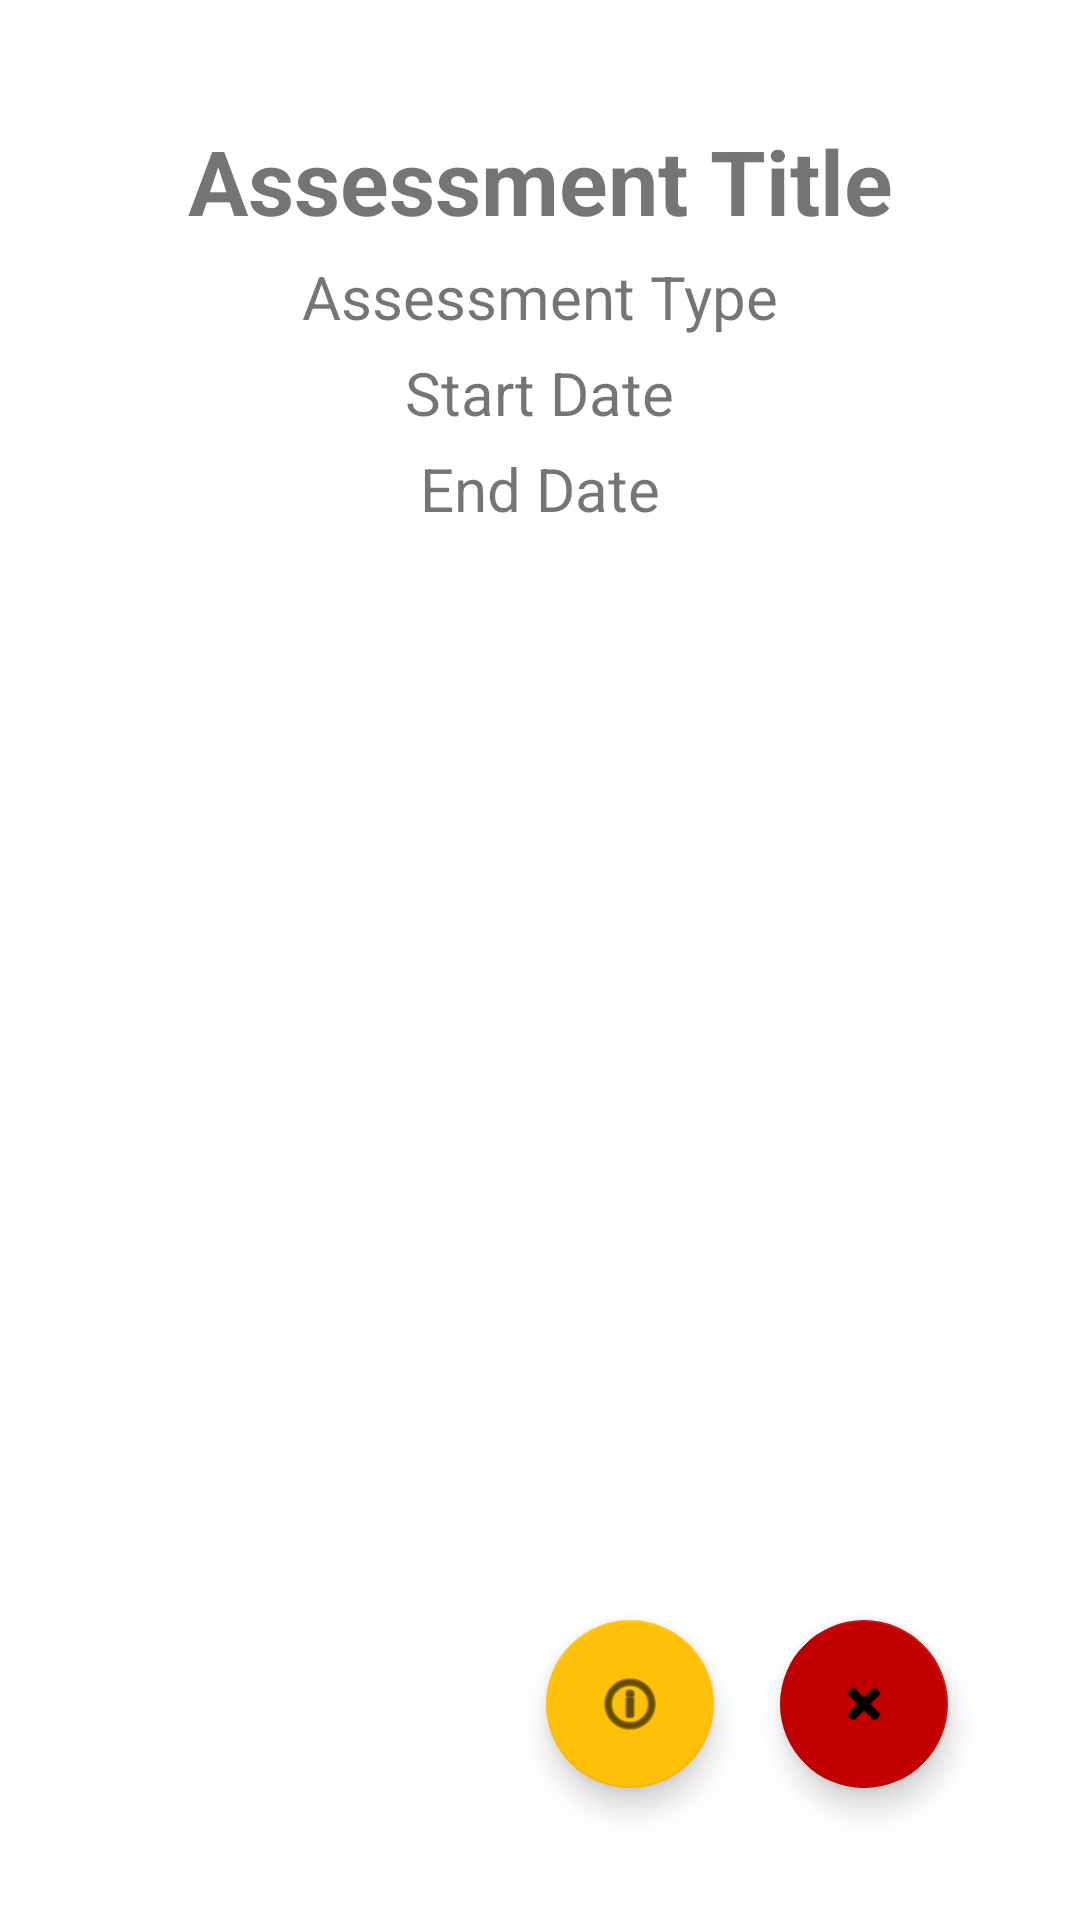

Icons on this 1080 x 1920 Android screen, each with its box as (x1,y1,x2,y2):
info details: (546,1620,714,1788)
